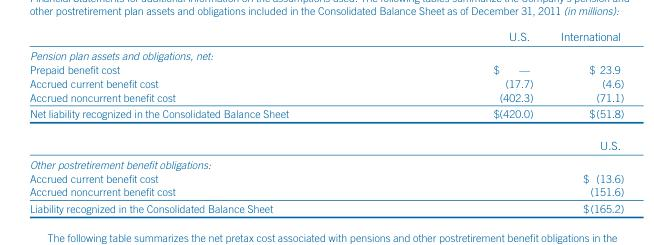table: (28, 29, 623, 214)
table column: (28, 29, 390, 214), (390, 29, 546, 214), (546, 29, 623, 214)
table column header: (28, 29, 623, 45)
table projected row header: (28, 45, 623, 62), (28, 154, 623, 170)
table row: (28, 128, 623, 154), (28, 105, 623, 128), (28, 45, 623, 62), (28, 29, 623, 45), (28, 89, 623, 105), (28, 154, 623, 170), (28, 184, 623, 199), (28, 199, 623, 214), (28, 75, 623, 89), (28, 170, 623, 184), (28, 62, 623, 75)
